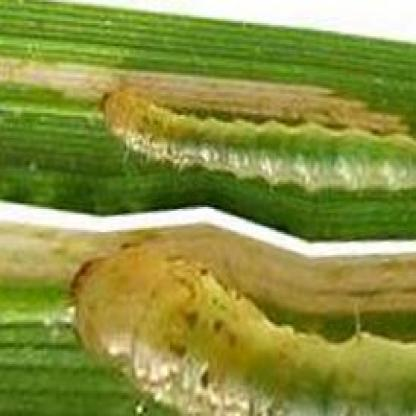leaf-folder: (59, 241, 415, 416), (109, 61, 416, 207)
